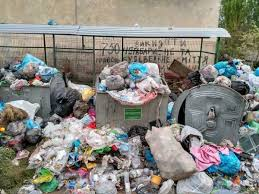garbage: (13, 57, 259, 192), (2, 54, 170, 154)
